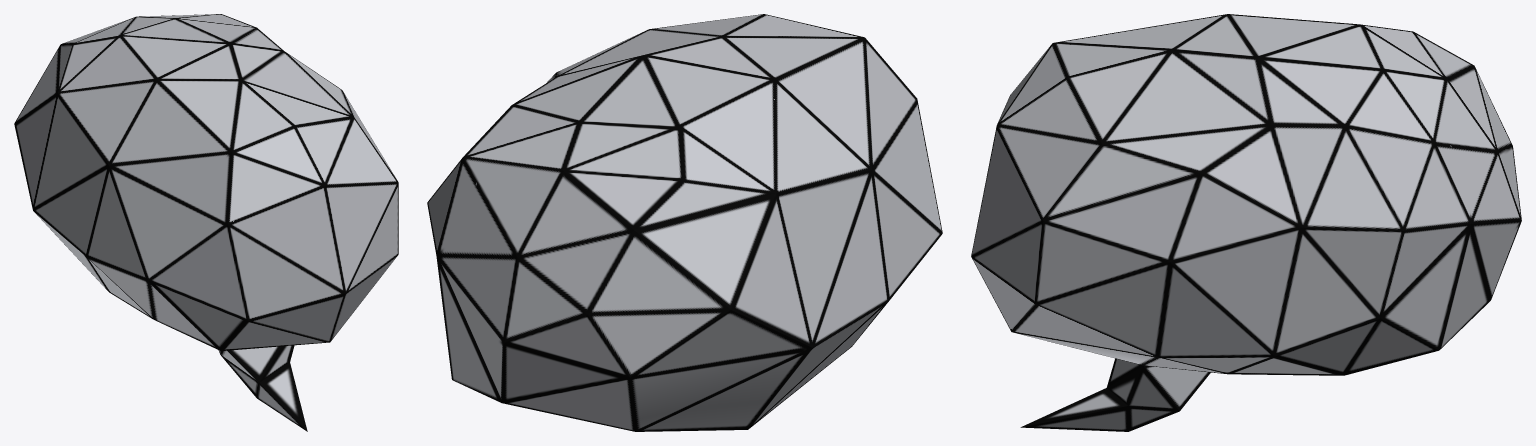
The picture shows the model from 3 angles, left to right: view 1: azimuth 30°, elevation 25°; view 2: azimuth 150°, elevation 25°; view 3: azimuth 270°, elevation 25°; orthographic projection. The views are drawn at different scales.
Parts seen in each view (by area): view 1: Cube; view 2: Cube; view 3: Cube.
Part boxes in pixels (<box>): Cube: <box>14,14,398,431</box>; Cube: <box>427,14,942,431</box>; Cube: <box>971,14,1521,431</box>.
Size of the model in its own units: 2.27 by 2.51 by 3.28.
1 material, 1 textured.
